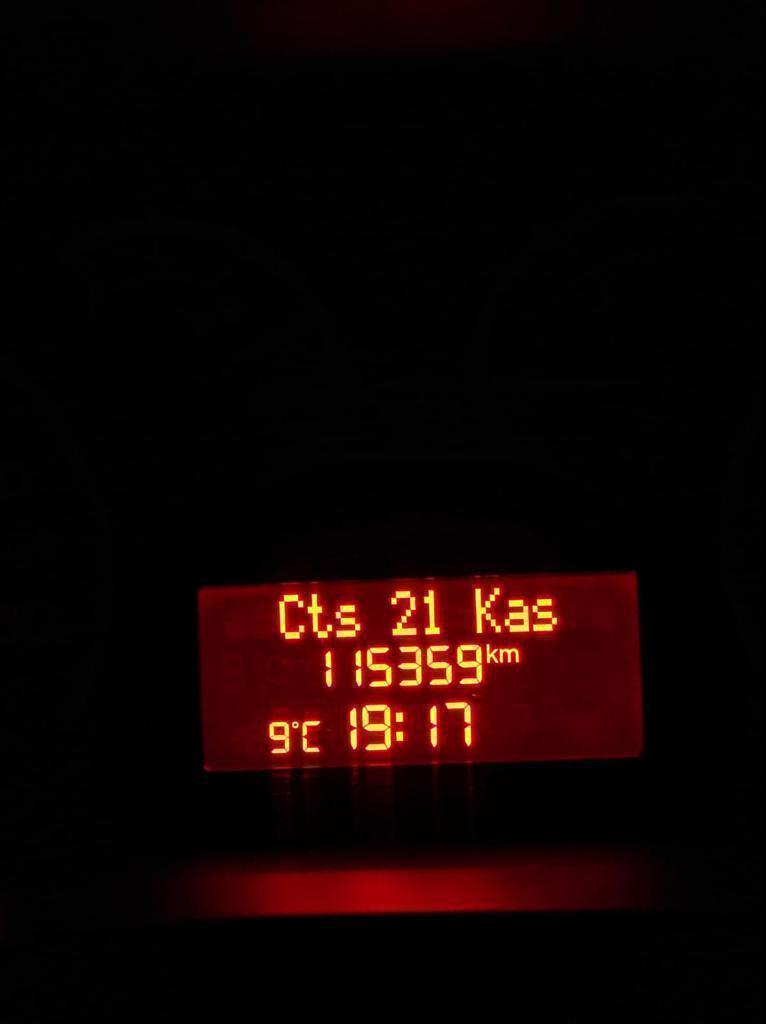1: (420, 588, 442, 636), (427, 703, 440, 748), (346, 706, 359, 751), (322, 648, 333, 689), (352, 648, 363, 687)
2: (389, 590, 419, 636)
3: (397, 644, 423, 688)
5: (426, 644, 454, 687), (365, 646, 393, 688)
7: (443, 700, 473, 749)
9: (362, 702, 392, 751), (456, 643, 483, 686), (267, 720, 292, 755)
X: (275, 591, 308, 643), (472, 585, 503, 635), (305, 591, 334, 642), (530, 596, 559, 633), (333, 602, 361, 639), (502, 598, 530, 633), (300, 719, 322, 754), (393, 710, 406, 743), (498, 647, 521, 664), (484, 642, 498, 664)
odometer: (189, 563, 650, 778)
